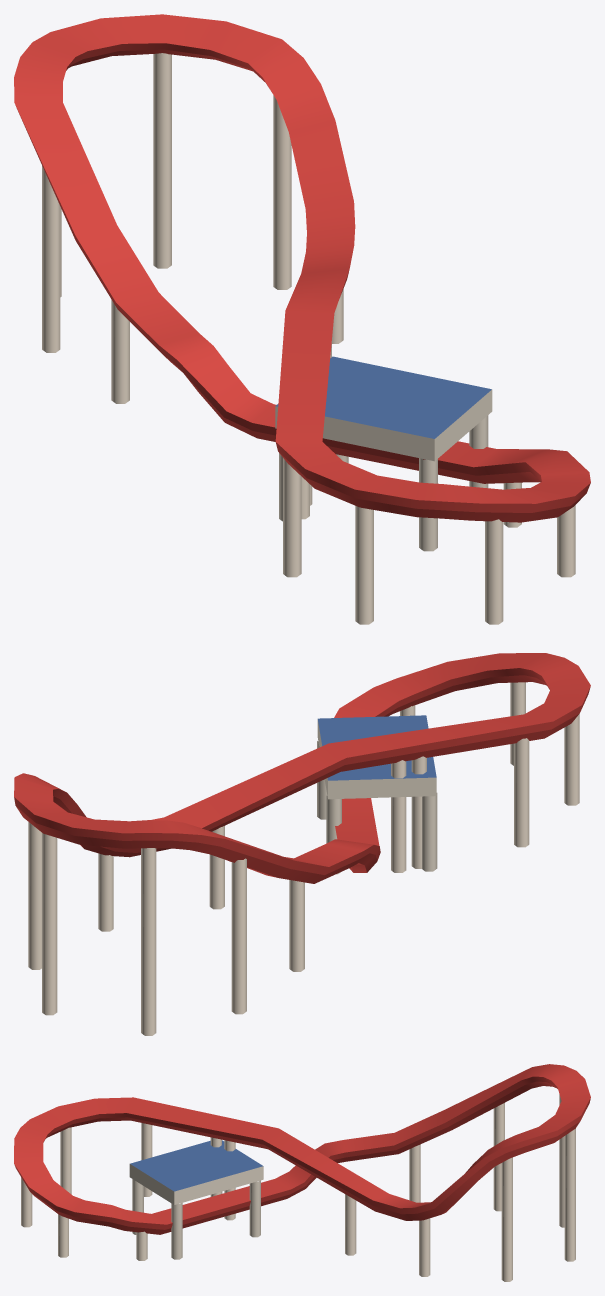
Rendered from nyc-circus-coaster.glb.
The picture shows the model from 3 angles, top to bottom: view 1: azimuth 30°, elevation 25°; view 2: azimuth 150°, elevation 25°; view 3: azimuth 270°, elevation 25°; orthographic projection. The views are drawn at different scales.
Parts seen in each view (by area): view 1: Circus Coaster; view 2: Circus Coaster; view 3: Circus Coaster.
Boxes of the visible parts, x1,y1,x2,y2 form: Circus Coaster: (14,14,590,624); Circus Coaster: (14,653,590,1035); Circus Coaster: (14,1064,590,1281).
Bounding box in the file's own units: 14.25 × 10.1 × 34.8.
